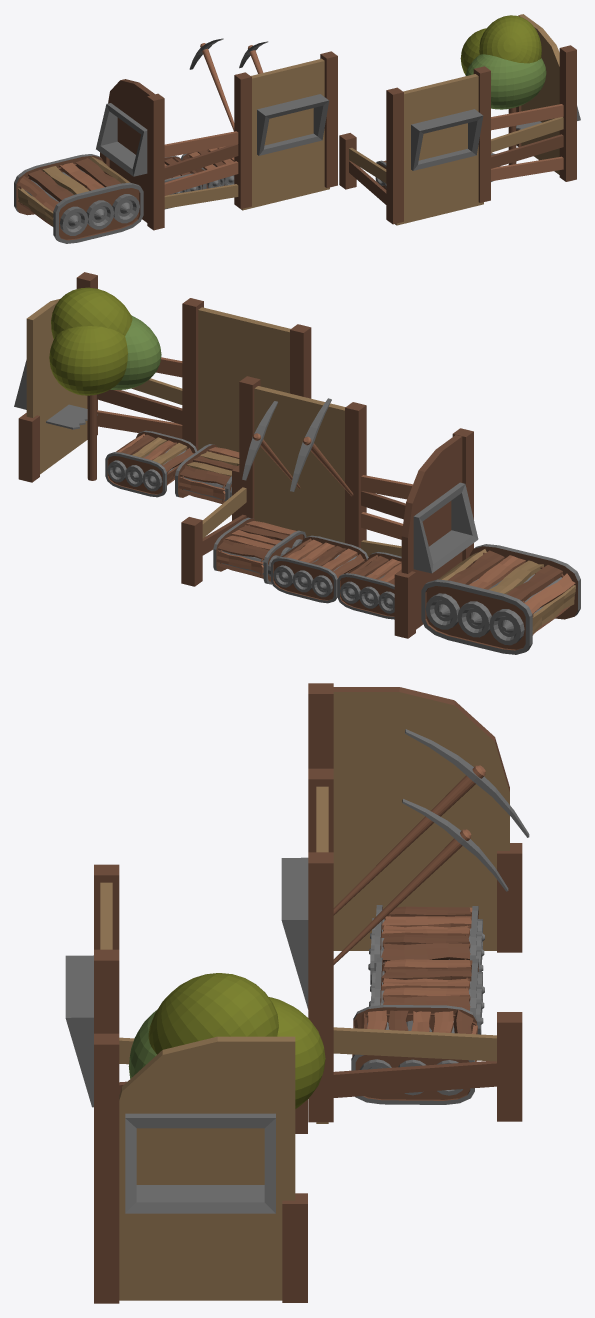
The model's file is FirstMachinePlaceholders.fbx.
3 renders of one model, top to bottom at view 1: azimuth 30°, elevation 25°; view 2: azimuth 150°, elevation 25°; view 3: azimuth 270°, elevation 25°, orthographic. The views are drawn at different scales.
Visible parts, largest first — view 1: Cube.041, Cube.034, Whole Conveyor; view 2: Cube.034, Cube.041, Whole Conveyor; view 3: Cube.034, Cube.041.
Boxes of the visible parts, x1,y1,x2,y2 form: Cube.041: [339, 14, 580, 225]; Cube.034: [96, 38, 337, 230]; Whole Conveyor: [14, 154, 143, 243]; Cube.034: [181, 376, 478, 638]; Cube.041: [14, 272, 311, 520]; Whole Conveyor: [421, 544, 580, 654]; Cube.034: [281, 683, 529, 1123]; Cube.041: [65, 864, 325, 1303].
Bounding box in the file's own units: 766 × 247 × 325.
